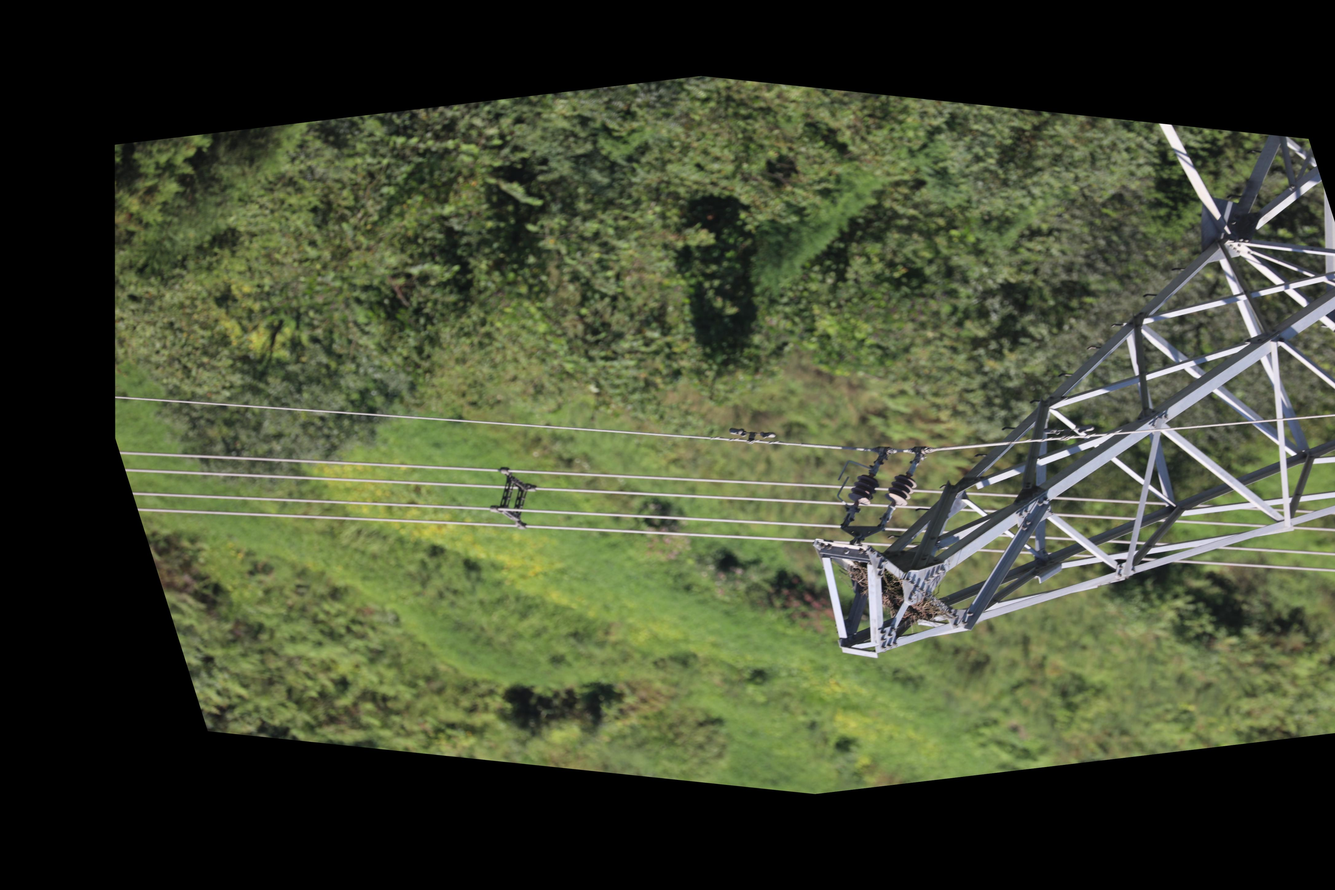damper: (1034, 411, 1104, 452), (720, 419, 785, 455)
